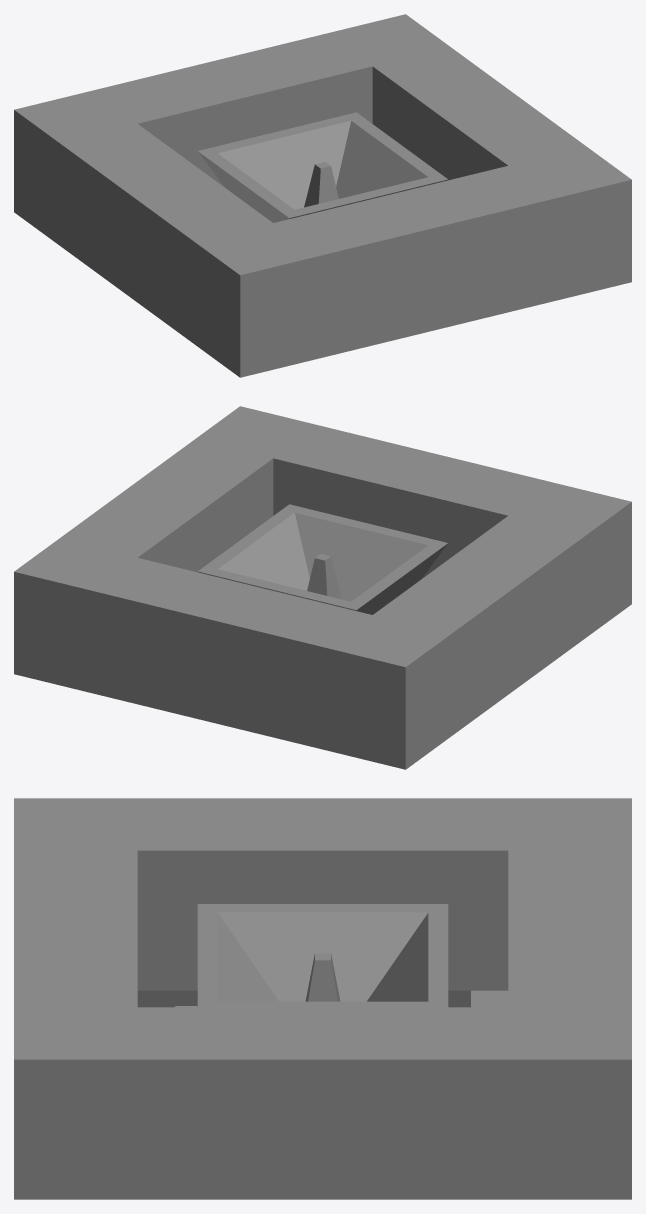
File: soundemiter.obj
3 views of the same model, one above another, from view 1: azimuth 30°, elevation 25°; view 2: azimuth 150°, elevation 25°; view 3: azimuth 270°, elevation 25° (orthographic). The views are drawn at different scales.
Visible parts, largest first — view 1: soundemiter_Cube.002; view 2: soundemiter_Cube.002; view 3: soundemiter_Cube.002.
Part boxes in pixels (box(x1,y1,x2,y2)): soundemiter_Cube.002: box(14, 14, 631, 377); soundemiter_Cube.002: box(14, 406, 631, 769); soundemiter_Cube.002: box(14, 798, 631, 1199).
Size of the model in its own units: 1 by 0.29 by 1.
